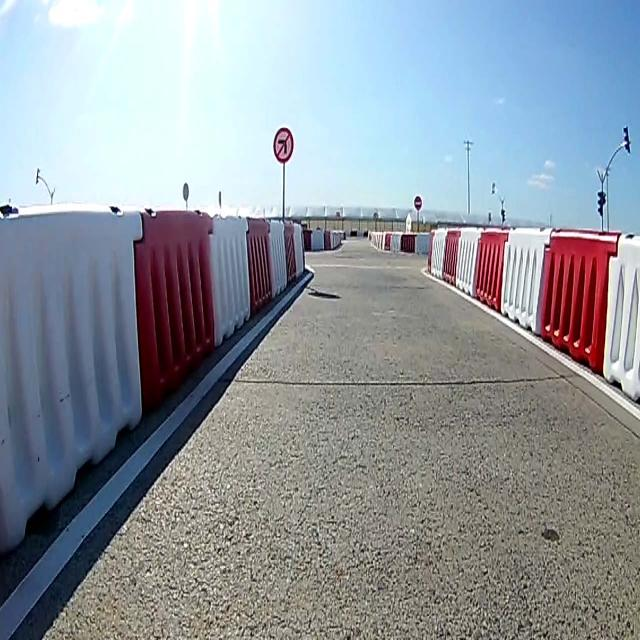girisyok: (413, 196, 422, 212)
soladonulmez: (272, 126, 294, 164)
